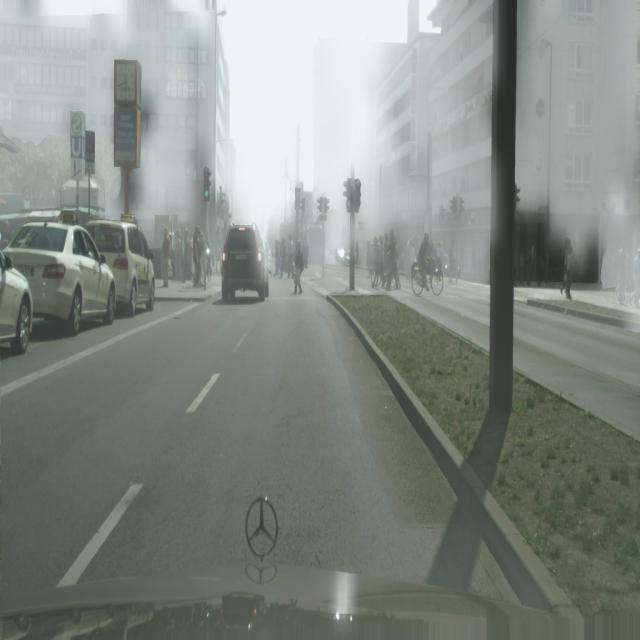car: (412, 230, 443, 296)
person: (384, 231, 401, 291), (561, 235, 574, 300), (616, 244, 629, 305), (192, 226, 203, 288), (161, 227, 170, 287), (293, 241, 303, 294), (632, 246, 640, 308), (172, 233, 182, 281), (373, 236, 382, 288), (449, 243, 458, 282)
truck: (2, 221, 117, 336), (87, 218, 156, 318), (221, 223, 270, 302), (1, 251, 34, 354)
